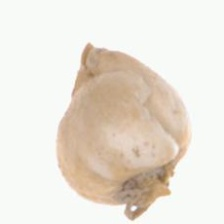L3: (68, 42, 108, 101)
L4: (55, 42, 191, 207)
